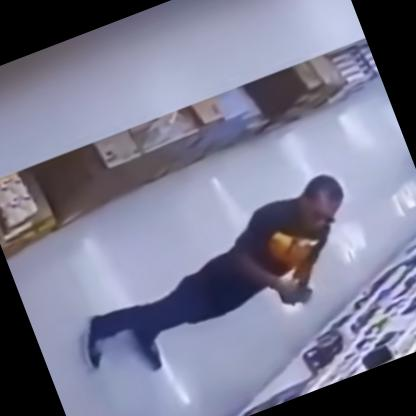Human Body: (41, 161, 386, 406)
